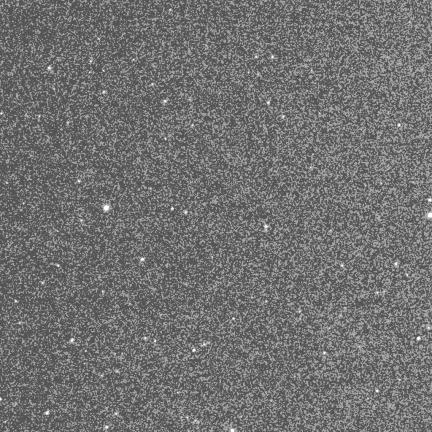blob: (104, 206, 109, 211), (44, 411, 49, 415), (192, 349, 197, 353), (48, 66, 52, 71), (398, 123, 402, 127), (323, 351, 327, 355), (282, 115, 286, 119), (70, 338, 74, 342), (417, 336, 421, 340), (144, 337, 148, 341), (376, 389, 379, 394), (428, 213, 431, 218), (154, 339, 157, 343), (428, 198, 431, 202), (115, 413, 119, 416), (78, 180, 81, 184), (57, 264, 60, 268), (427, 326, 430, 330), (171, 206, 174, 210), (267, 101, 270, 105), (272, 56, 275, 60), (151, 83, 154, 87), (265, 225, 268, 228), (376, 292, 379, 295), (15, 300, 18, 303), (141, 258, 144, 261), (103, 91, 106, 94), (19, 322, 22, 325), (81, 219, 84, 222), (164, 100, 167, 103), (184, 211, 187, 214), (105, 426, 108, 429), (395, 262, 397, 266), (231, 429, 234, 431)
